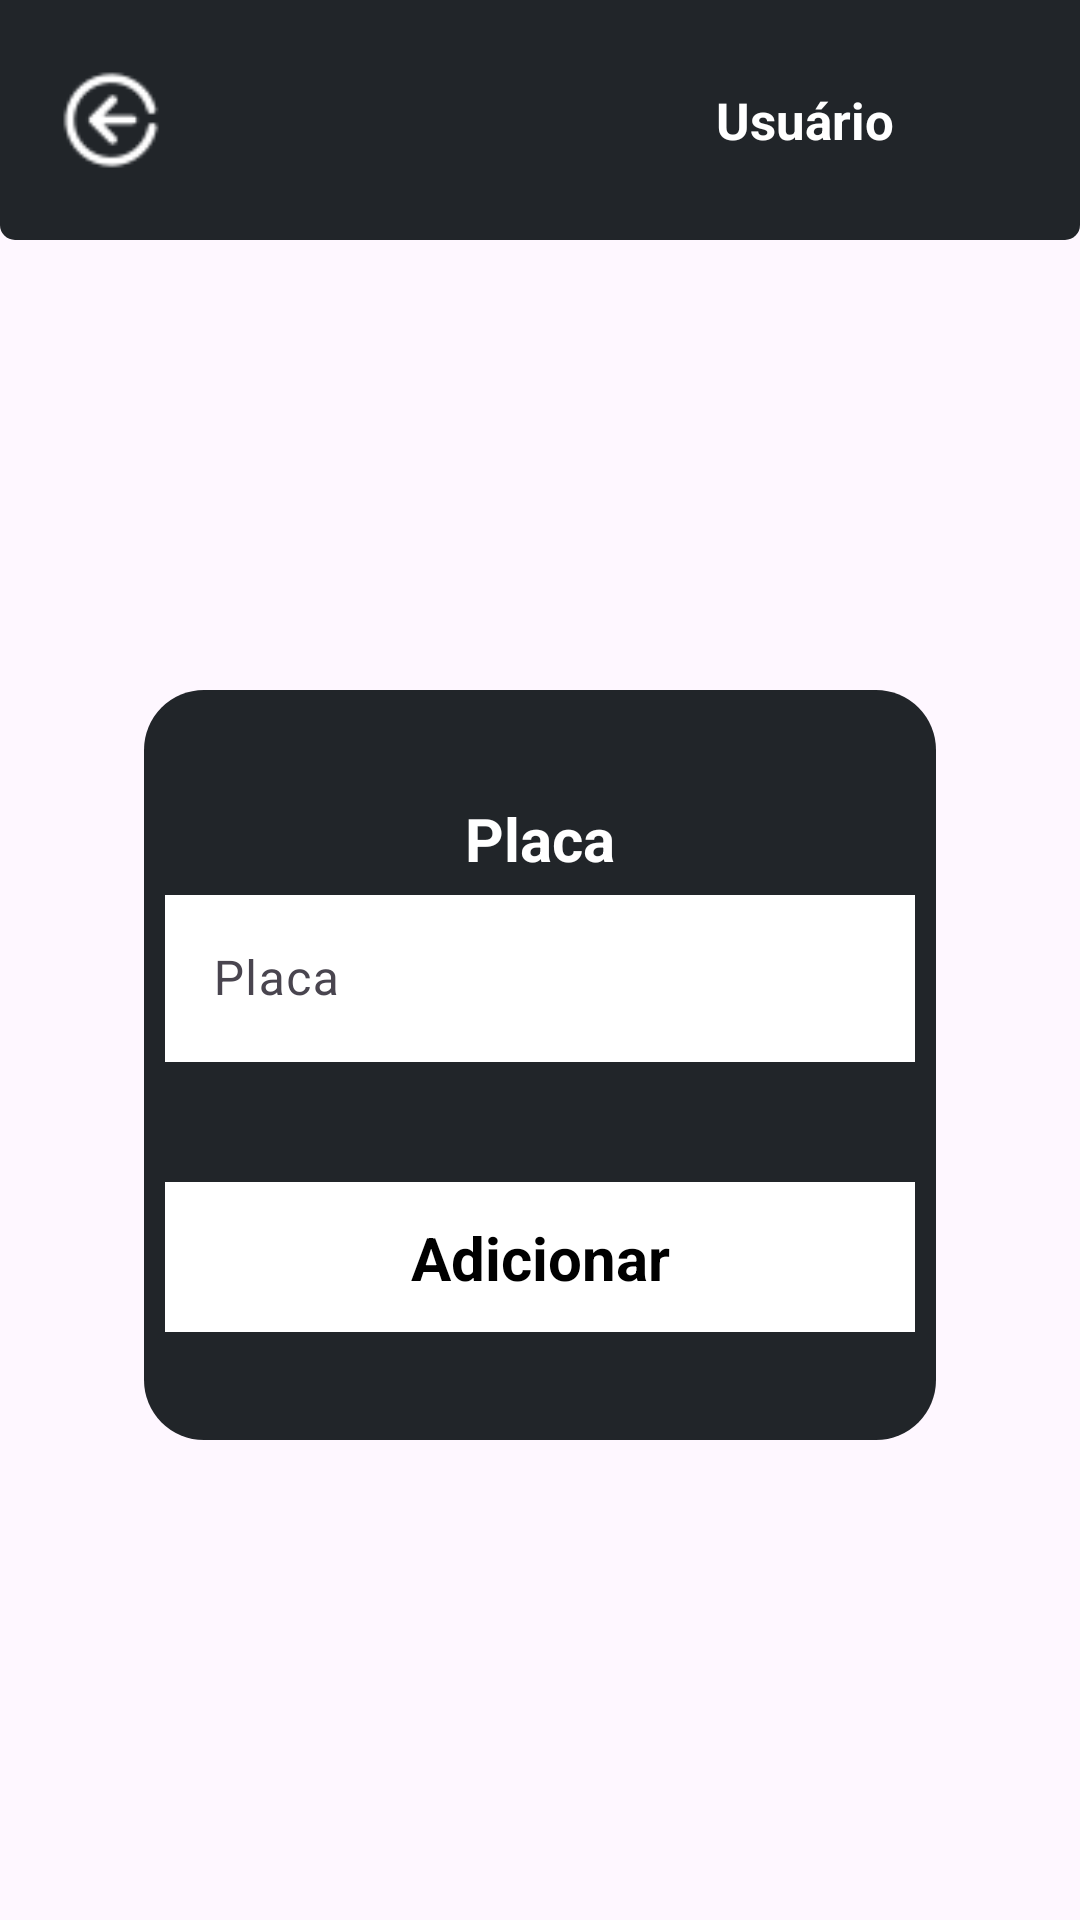

Point at icon controls on the screen. Image size 1080w x 1920h, points as (x,y).
return: (111,120)
